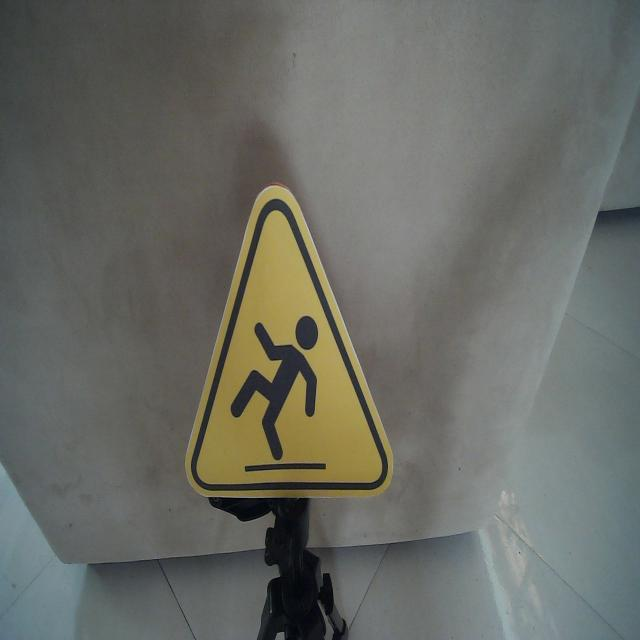slippery_sign: (182, 182, 396, 502)
